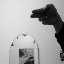h: (29, 3, 57, 26)
